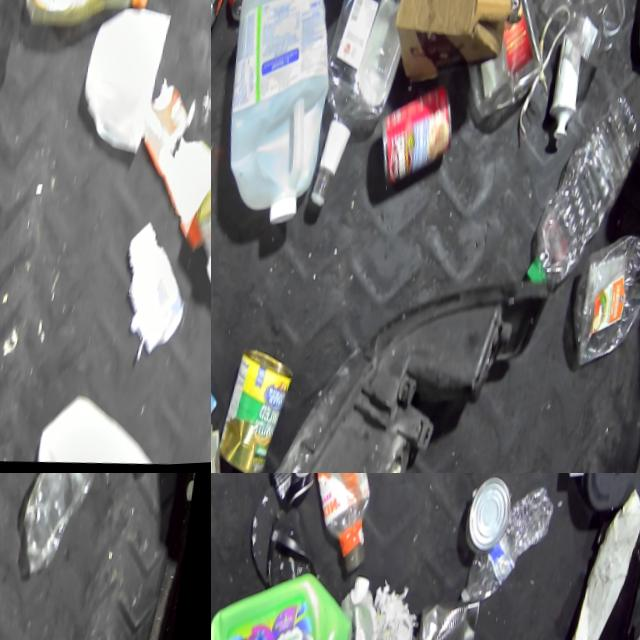can: (220, 347, 303, 473), (372, 82, 457, 196), (470, 473, 524, 555), (424, 590, 493, 640), (211, 331, 232, 465), (221, 0, 276, 27), (211, 0, 237, 50)
milk_jug: (211, 0, 345, 243), (38, 397, 177, 472)
non_white_jug: (211, 558, 363, 640), (24, 0, 162, 31)
plastic_bottle: (526, 88, 640, 302), (469, 485, 565, 607), (563, 234, 640, 378)
